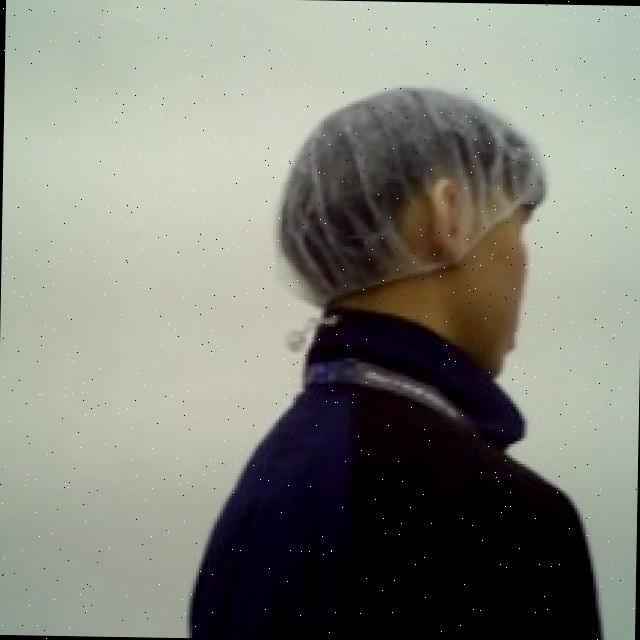gloves: (268, 76, 554, 315)
